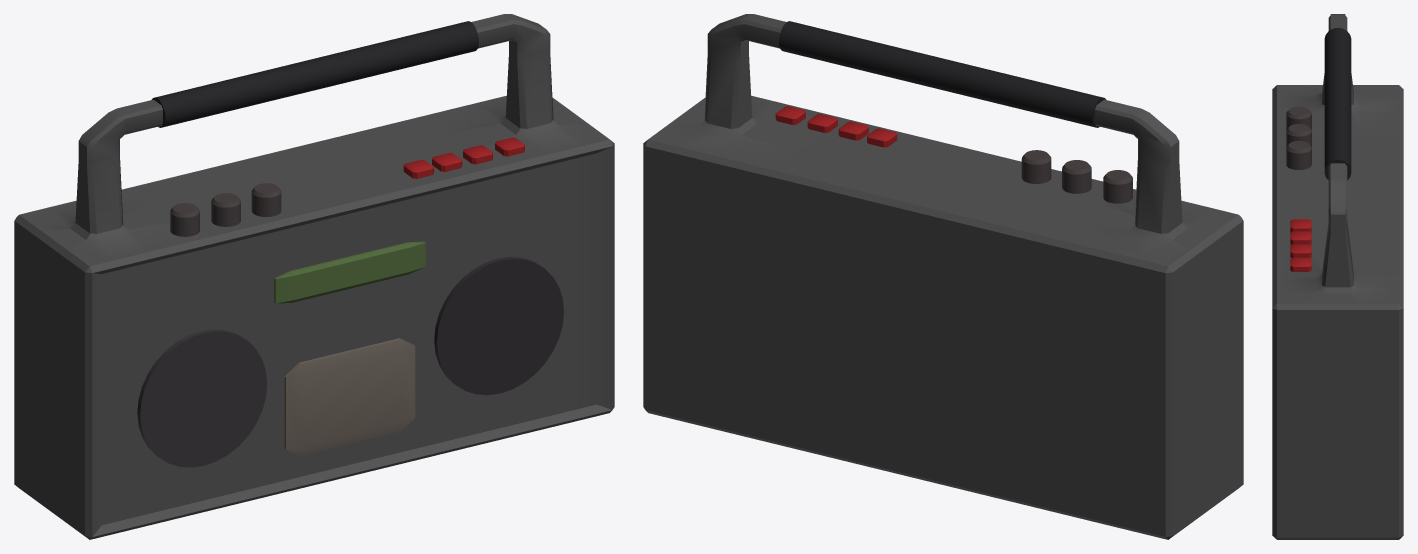
The model's file is boombox2.fbx.
3 renders of one model, left to right at view 1: azimuth 30°, elevation 25°; view 2: azimuth 150°, elevation 25°; view 3: azimuth 270°, elevation 25°, orthographic. The views are drawn at different scales.
Visible parts, largest first — view 1: boombox_core.001; view 2: boombox_core.001; view 3: boombox_core.001.
Boxes of the visible parts, box(x1,y1,x2,y2) form: boombox_core.001: box(14, 14, 614, 539); boombox_core.001: box(643, 14, 1243, 539); boombox_core.001: box(1272, 14, 1403, 539).
Size of the model in its own units: 31.91 by 22.47 by 7.93.
